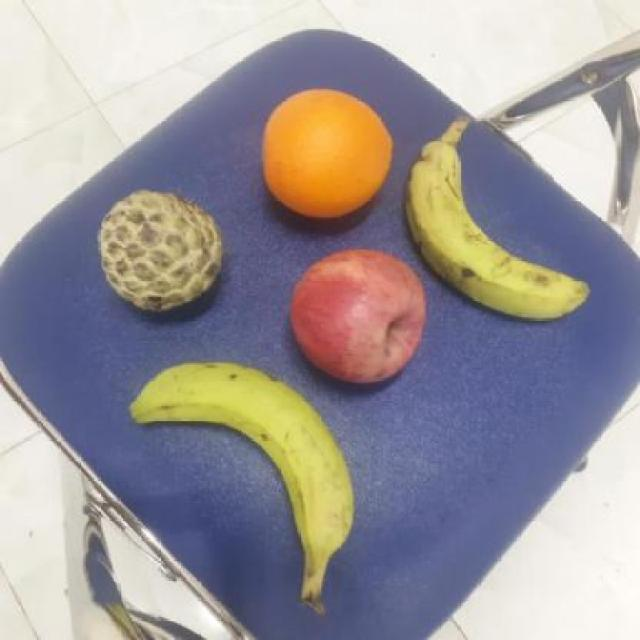apple: (282, 245, 428, 384)
banana: (123, 357, 360, 572), (407, 134, 595, 326)
oren: (257, 85, 395, 222)
sugar apple: (96, 188, 230, 315)
